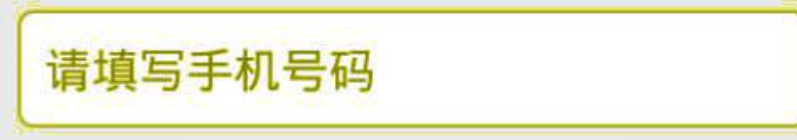EditText: (1, 1, 796, 139)
